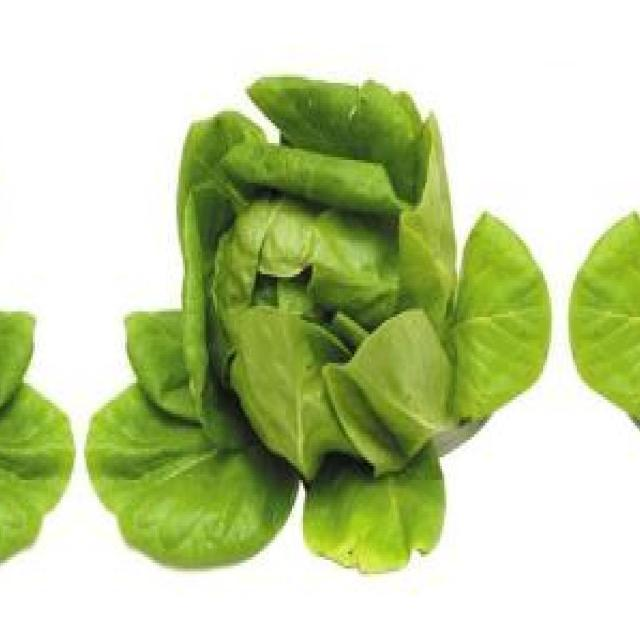healthy: (98, 68, 546, 584), (573, 68, 640, 584), (0, 68, 62, 584)
